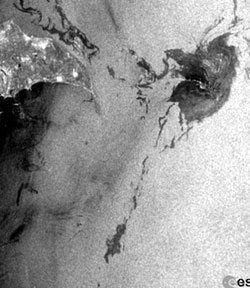anomaly: (129, 39, 250, 139)
